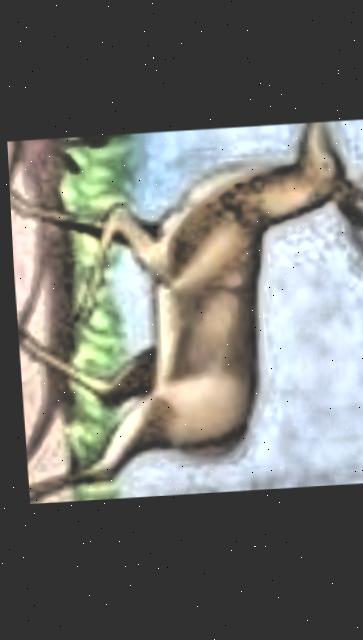El Venado: (6, 122, 363, 504)
